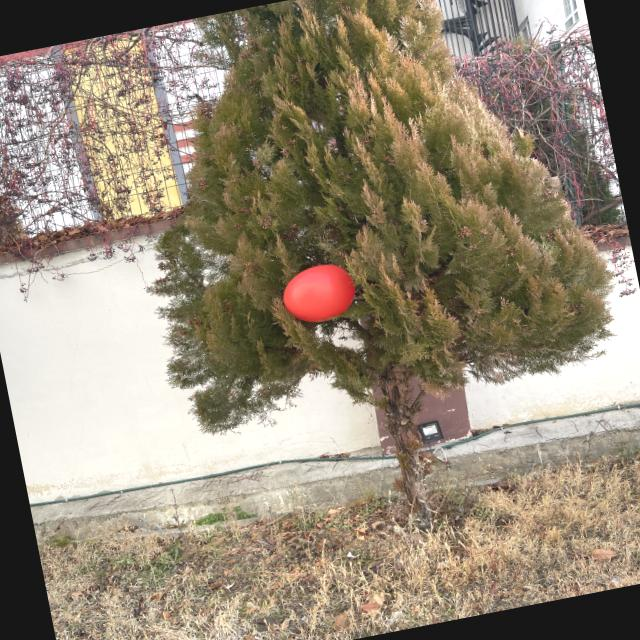balloon: (283, 265, 355, 322)
